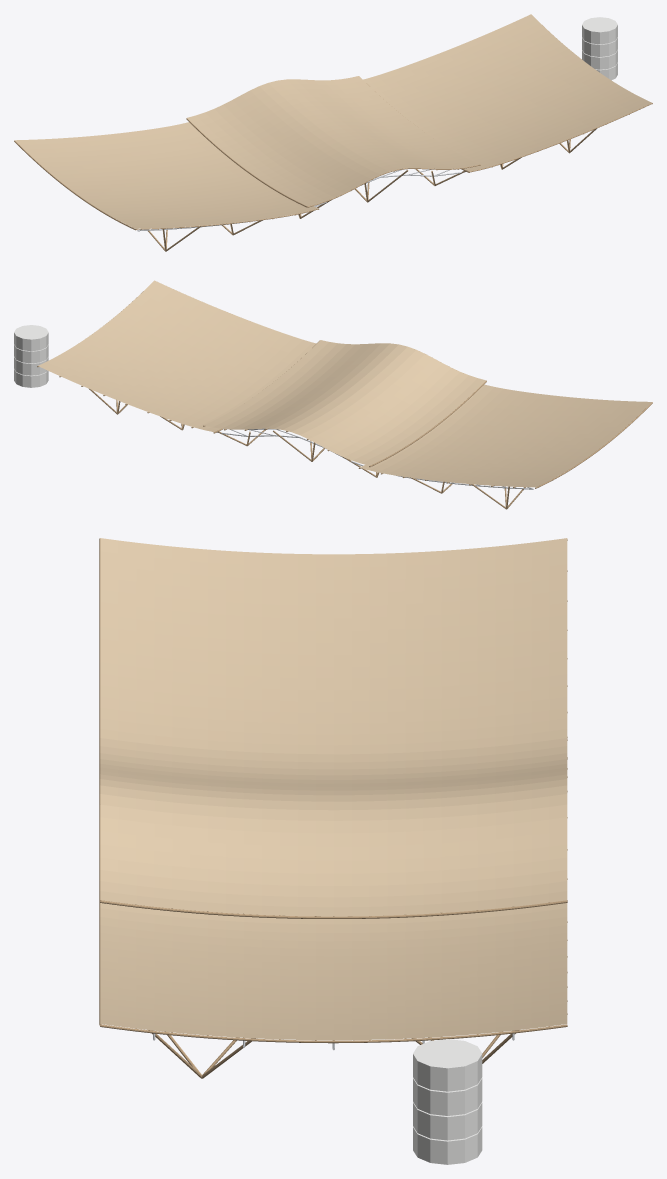
The model's file is level-03.glb.
3 renders of one model, top to bottom at view 1: azimuth 30°, elevation 25°; view 2: azimuth 150°, elevation 25°; view 3: azimuth 270°, elevation 25°, orthographic. The views are drawn at different scales.
Parts seen in each view (by area): view 1: timberRoof, timber, tower, steel; view 2: timberRoof, tower, timber, steel; view 3: timberRoof, tower, timber.
Boxes of the visible parts, <box> form: timberRoof: <box>15,14,651,228</box>; timber: <box>14,25,652,251</box>; tower: <box>582,17,617,80</box>; steel: <box>137,168,463,231</box>; timberRoof: <box>38,280,651,487</box>; tower: <box>14,325,48,387</box>; timber: <box>37,291,652,509</box>; steel: <box>217,428,533,489</box>; timberRoof: <box>100,538,567,1040</box>; tower: <box>413,1039,482,1164</box>; timber: <box>99,538,567,1078</box>.
Bounding box in the file's own units: 212 × 20.91 × 78.19.
